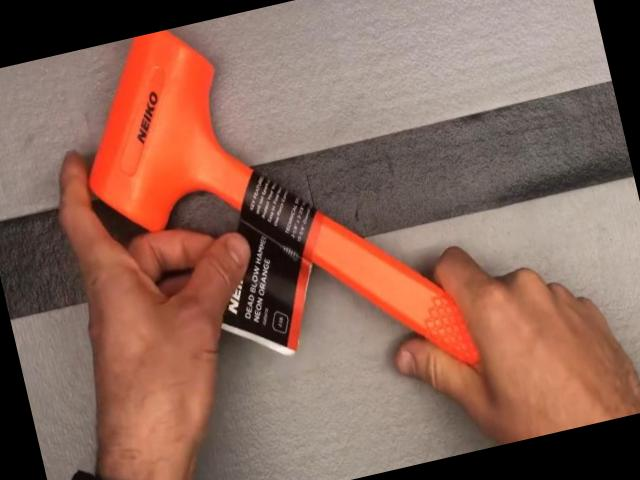hammer: (59, 0, 576, 480)
